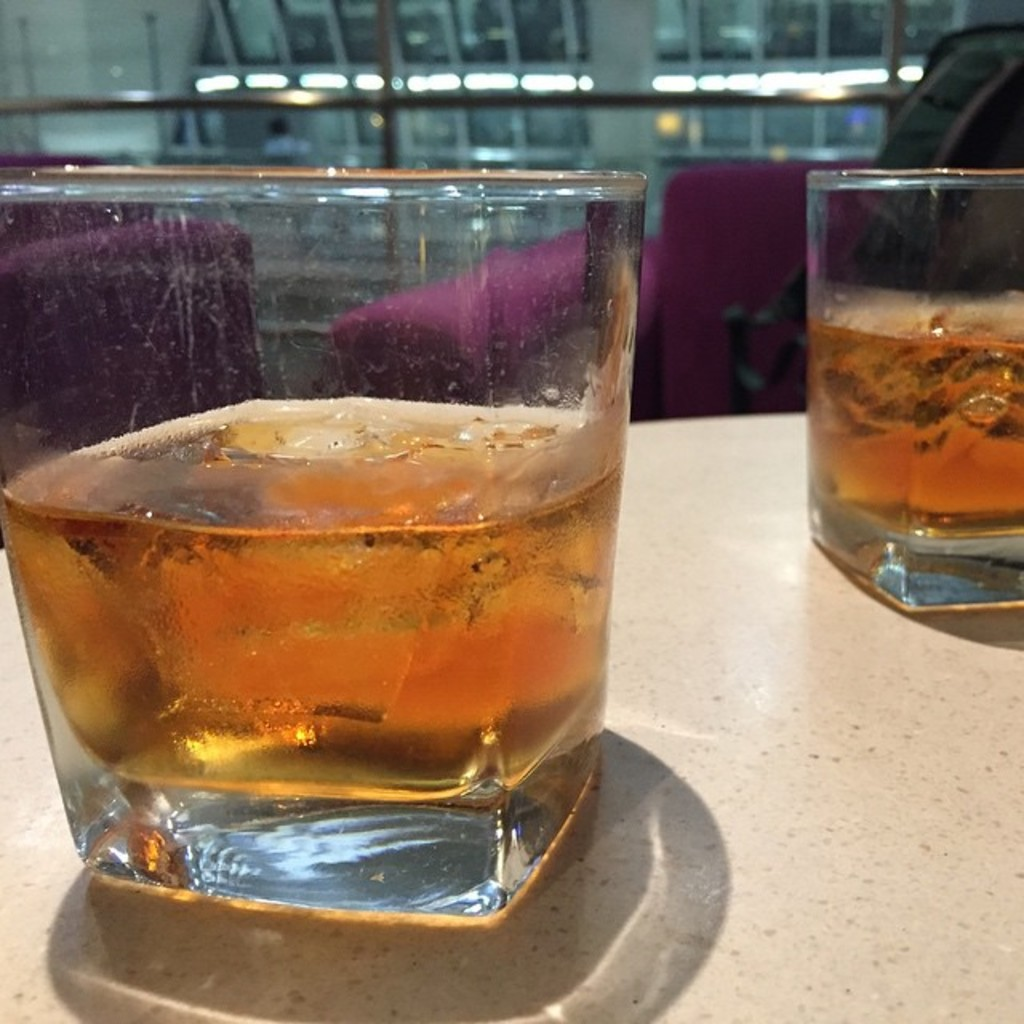Beer: (0, 155, 650, 935), (809, 166, 1024, 616)
